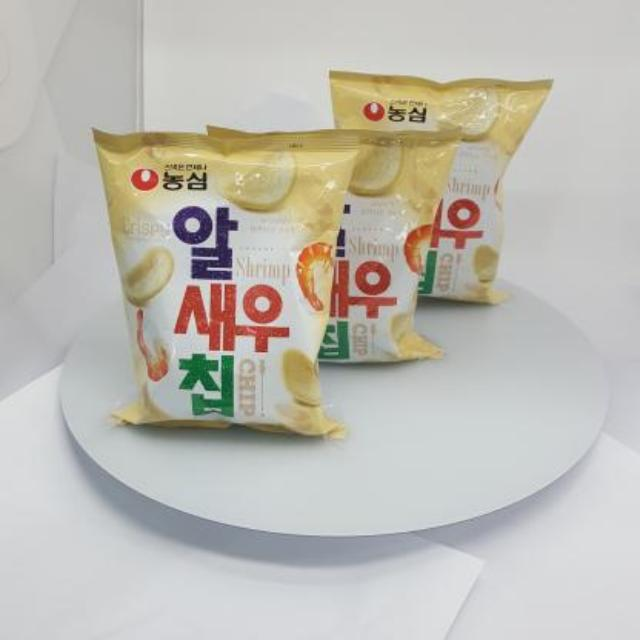snack_bag: (71, 60, 566, 450)
